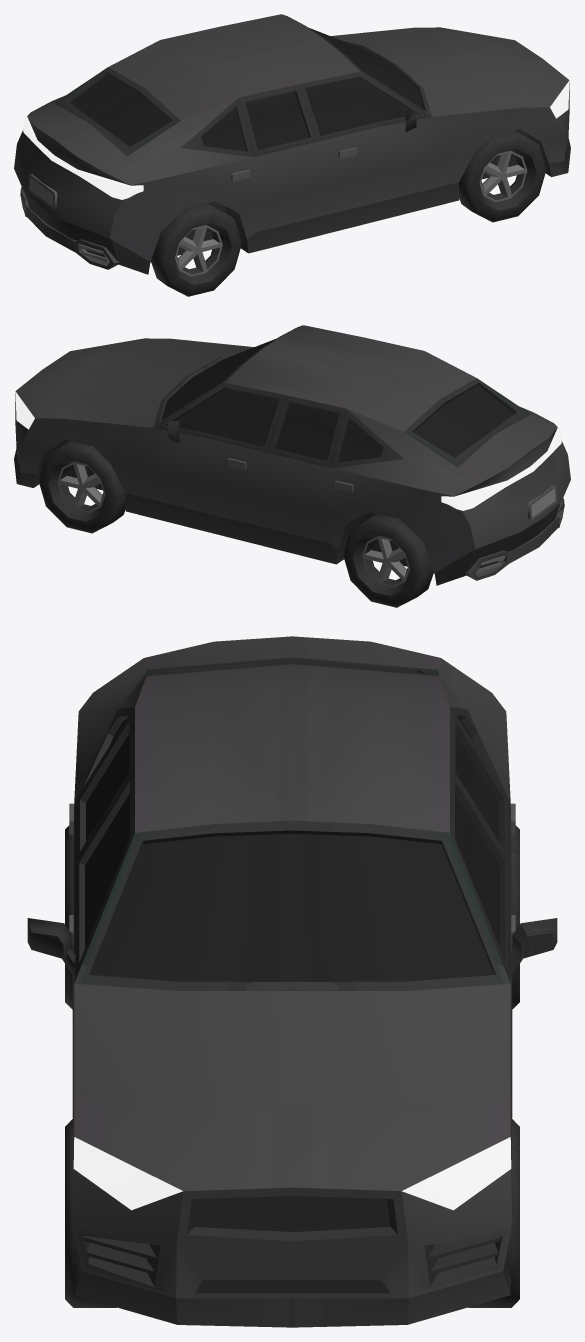
The model's file is coupe.glb.
3 renders of one model, top to bottom at view 1: azimuth 30°, elevation 25°; view 2: azimuth 150°, elevation 25°; view 3: azimuth 270°, elevation 25°, orthographic. The views are drawn at different scales.
Visible parts, largest first — view 1: coupe; view 2: coupe; view 3: coupe.
Part boxes in pixels (x1=…): coupe: x1=14, y1=14, x2=570, y2=296; coupe: x1=14, y1=325, x2=570, y2=607; coupe: x1=27, y1=636, x2=557, y2=1327.
Size of the model in its own units: 5.14 by 1.74 by 2.35.
4 materials, 3 textured.
